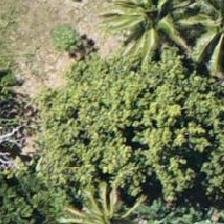coconut_tree: (107, 0, 197, 61)
